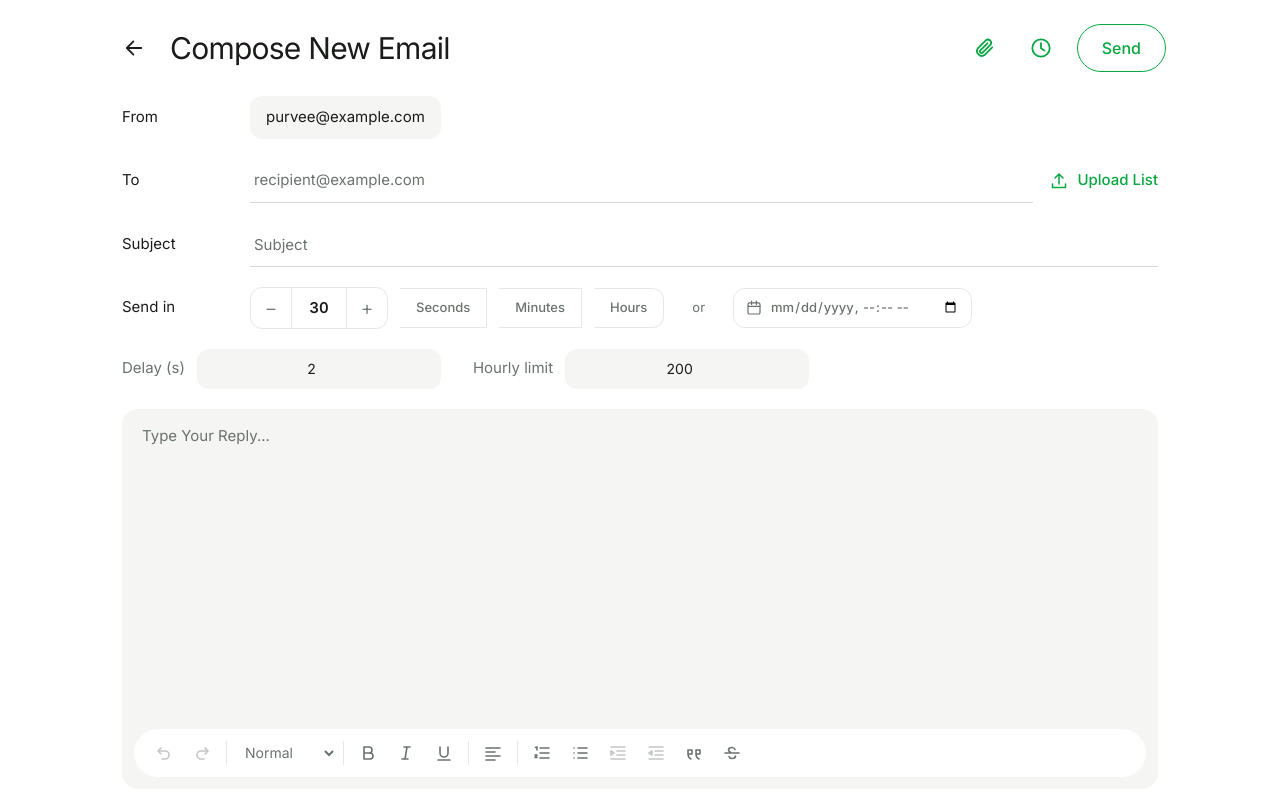
Test case: rejects a typed recipient that is not an email address
Type "not-an-email" into the field labelled "To".
click(642, 180); type("not-an-email")  # box [250,161,1033,199]
Then press Enter
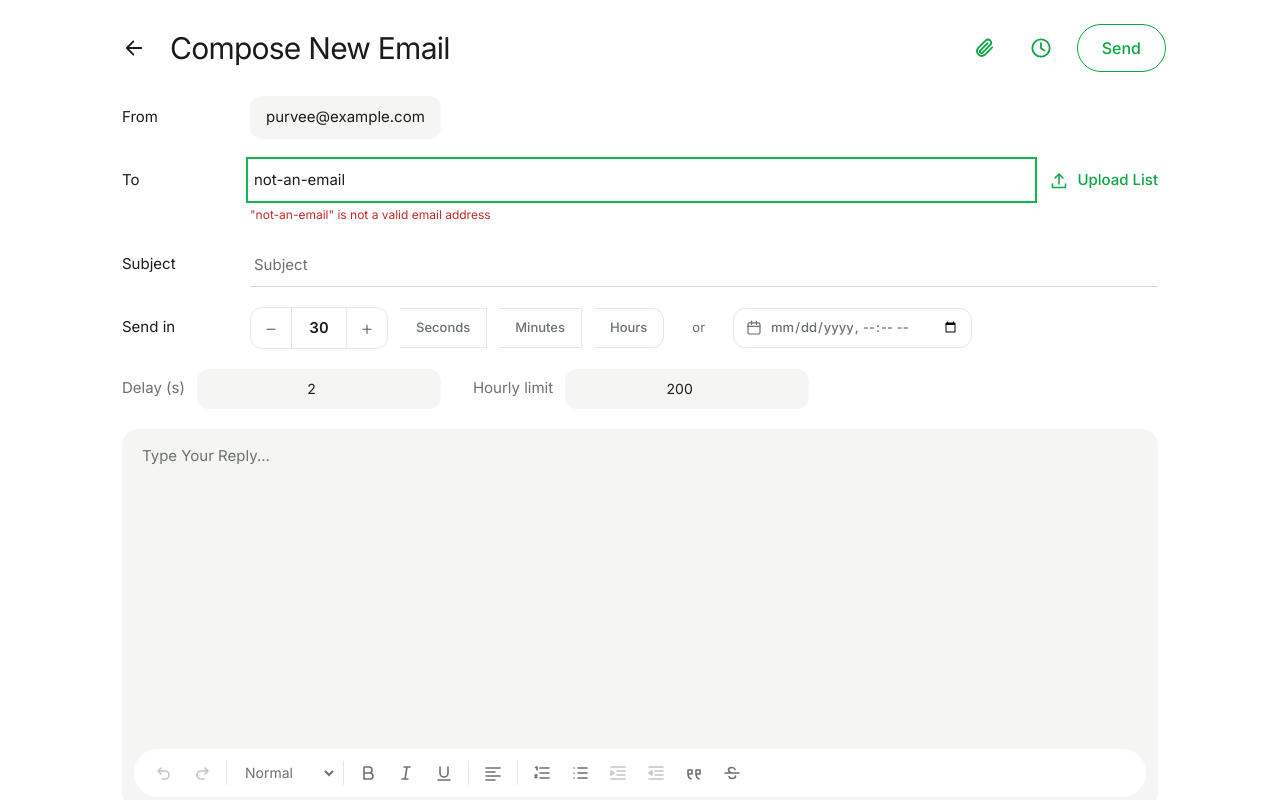
Expected: the text "\"not-an-email\" is not a valid email address" is shown, [250,206,491,222]
